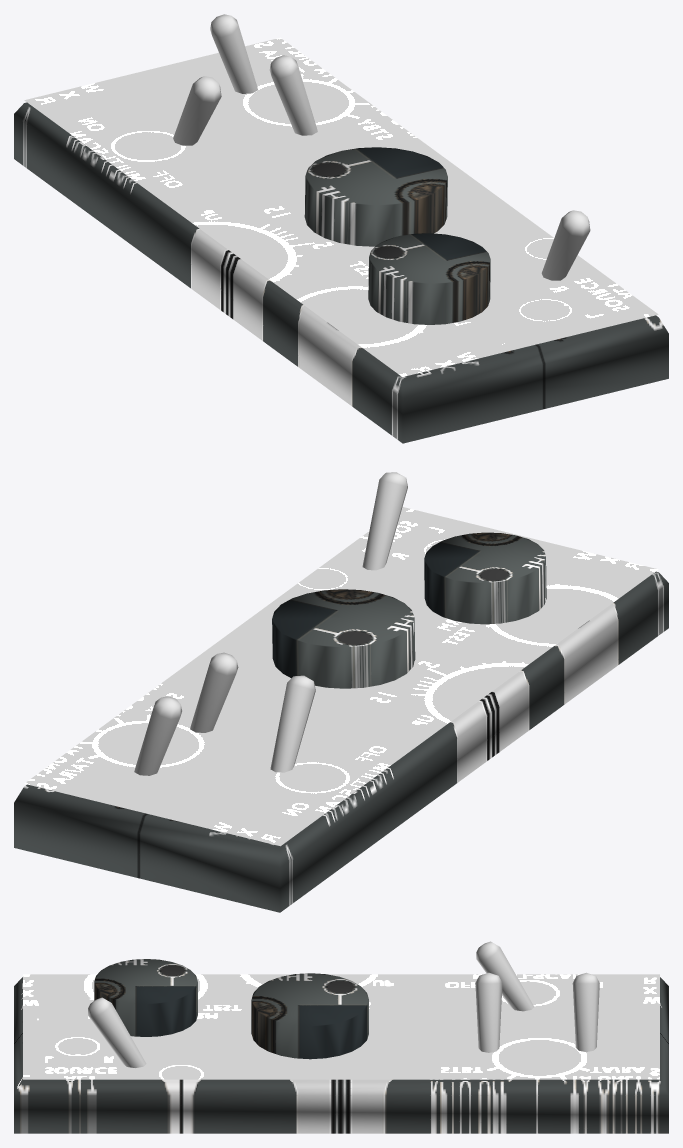
Rendered from wxradar-control.glb.
3 renders of one model, top to bottom at view 1: azimuth 30°, elevation 25°; view 2: azimuth 150°, elevation 25°; view 3: azimuth 270°, elevation 25°, orthographic. The views are drawn at different scales.
Parts seen in each view (by area): view 1: box (×2), wxradar-tilt, wxradar-gnd-rtn, wxradar (×2), wxradar-master, wxradar-multi-scan; view 2: box (×2), wxradar-tilt, wxradar-gnd-rtn, wxradar (×2), wxradar-master, wxradar-multi-scan; view 3: box (×2), wxradar-tilt, wxradar-gnd-rtn, wxradar (×2), wxradar-master, wxradar-multi-scan.
Part boxes in pixels (box(x1,y1,x2,y2)): box (×2): box(14, 37, 668, 443); wxradar-tilt: box(304, 147, 447, 246); wxradar-gnd-rtn: box(368, 233, 490, 324); wxradar (×2): box(210, 14, 317, 135); wxradar-master: box(541, 210, 590, 280); wxradar-multi-scan: box(173, 76, 221, 145); box (×2): box(14, 507, 668, 912); wxradar-tilt: box(272, 589, 415, 688); wxradar-gnd-rtn: box(424, 532, 546, 624); wxradar (×2): box(134, 652, 238, 775); wxradar-master: box(362, 472, 407, 570); wxradar-multi-scan: box(270, 675, 315, 772); box (×2): box(14, 974, 668, 1133); wxradar-tilt: box(251, 973, 368, 1059); wxradar-gnd-rtn: box(94, 959, 197, 1036); wxradar (×2): box(475, 972, 599, 1052); wxradar-master: box(88, 997, 146, 1067); wxradar-multi-scan: box(476, 941, 534, 1011).
Bounding box in the file's own units: 0.0602 × 0.0301 × 0.1525.
4 materials, 4 textured.
